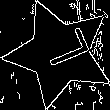L_SW: (29, 29, 89, 77)
